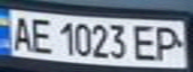0: (72, 20, 93, 58)
1: (54, 19, 75, 56)
2: (90, 20, 112, 60)
3: (106, 21, 130, 61)
A: (6, 12, 36, 52)
E: (130, 21, 163, 62), (27, 15, 54, 54)
P: (151, 24, 187, 62)
